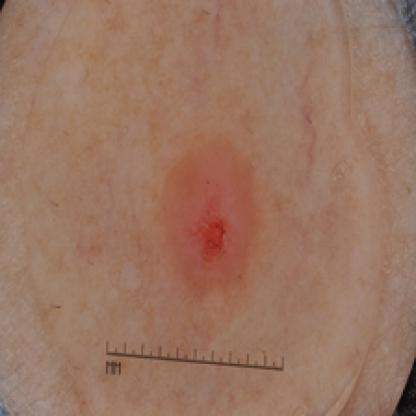malignant: (165, 173, 275, 299)
